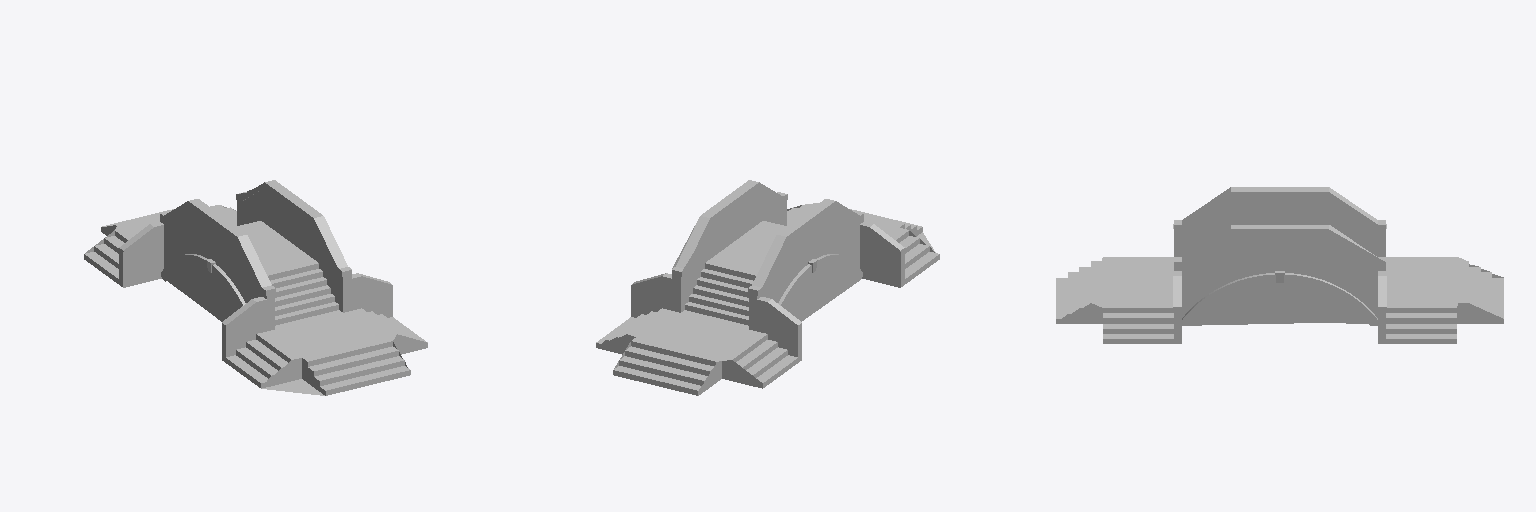
Rendered from Ponte Delle Tette.obj.
3 views of the same model, side by side, from view 1: azimuth 30°, elevation 25°; view 2: azimuth 150°, elevation 25°; view 3: azimuth 270°, elevation 25° (orthographic).
Visible parts, largest first — view 1: Mesh10 Group6 pontedelletette1 Model, Mesh11 Group11 pontedelletette1 Model, Mesh14 Component_1_1 pontedelletette1 Model, Mesh13 Group13 Component_1_1 pontedelletette1 Model, Mesh19 Component_1_2 pontedelletette1 Model, Mesh18 Group15 Component_1_2 pontedelletette1 Model, Mesh5 Group1 pontedelletette1 Model, Mesh4 Group4 Group1 pontedelletette1 Model, Mesh9 Group9 Group6 pontedelletette1 Model, Mesh7 Group7 Group6 pontedelletette1 Model; view 2: Mesh5 Group1 pontedelletette1 Model, Mesh11 Group11 pontedelletette1 Model, Mesh14 Component_1_1 pontedelletette1 Model, Mesh13 Group13 Component_1_1 pontedelletette1 Model, Mesh19 Component_1_2 pontedelletette1 Model, Mesh18 Group15 Component_1_2 pontedelletette1 Model, Mesh10 Group6 pontedelletette1 Model, Mesh9 Group9 Group6 pontedelletette1 Model, Mesh4 Group4 Group1 pontedelletette1 Model, Mesh2 Group2 Group1 pontedelletette1 Model; view 3: Mesh19 Component_1_2 pontedelletette1 Model, Mesh5 Group1 pontedelletette1 Model, Mesh10 Group6 pontedelletette1 Model, Mesh18 Group15 Component_1_2 pontedelletette1 Model, Mesh13 Group13 Component_1_1 pontedelletette1 Model, Mesh14 Component_1_1 pontedelletette1 Model.
Part boxes in pixels (x1,y1,x2,y2): Mesh10 Group6 pontedelletette1 Model: (226,308,427,395); Mesh11 Group11 pontedelletette1 Model: (237,221,338,325); Mesh14 Component_1_1 pontedelletette1 Model: (160,219,274,330); Mesh13 Group13 Component_1_1 pontedelletette1 Model: (160,201,275,295); Mesh19 Component_1_2 pontedelletette1 Model: (237,191,351,312); Mesh18 Group15 Component_1_2 pontedelletette1 Model: (236,182,351,276); Mesh5 Group1 pontedelletette1 Model: (84,204,236,283); Mesh4 Group4 Group1 pontedelletette1 Model: (119,227,163,287); Mesh9 Group9 Group6 pontedelletette1 Model: (222,301,266,362); Mesh7 Group7 Group6 pontedelletette1 Model: (352,278,392,317); Mesh5 Group1 pontedelletette1 Model: (596,308,797,395); Mesh11 Group11 pontedelletette1 Model: (685,221,786,325); Mesh14 Component_1_1 pontedelletette1 Model: (749,219,863,330); Mesh13 Group13 Component_1_1 pontedelletette1 Model: (748,201,863,295); Mesh19 Component_1_2 pontedelletette1 Model: (672,201,786,312); Mesh18 Group15 Component_1_2 pontedelletette1 Model: (672,182,787,276); Mesh10 Group6 pontedelletette1 Model: (787,203,939,283); Mesh9 Group9 Group6 pontedelletette1 Model: (860,227,904,287); Mesh4 Group4 Group1 pontedelletette1 Model: (757,301,801,362); Mesh2 Group2 Group1 pontedelletette1 Model: (631,280,671,316); Mesh19 Component_1_2 pontedelletette1 Model: (1174,263,1385,325); Mesh5 Group1 pontedelletette1 Model: (1386,257,1503,343); Mesh10 Group6 pontedelletette1 Model: (1056,257,1173,343); Mesh18 Group15 Component_1_2 pontedelletette1 Model: (1174,225,1385,267); Mesh13 Group13 Component_1_1 pontedelletette1 Model: (1174,187,1385,229); Mesh14 Component_1_1 pontedelletette1 Model: (1174,230,1385,256).
Size of the model in its own units: 4900 by 2674 by 11400.